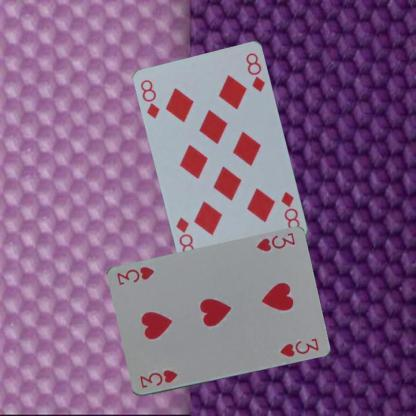3h: (254, 231, 296, 253), (137, 367, 178, 389)
8d: (278, 188, 301, 232), (138, 77, 161, 120)
